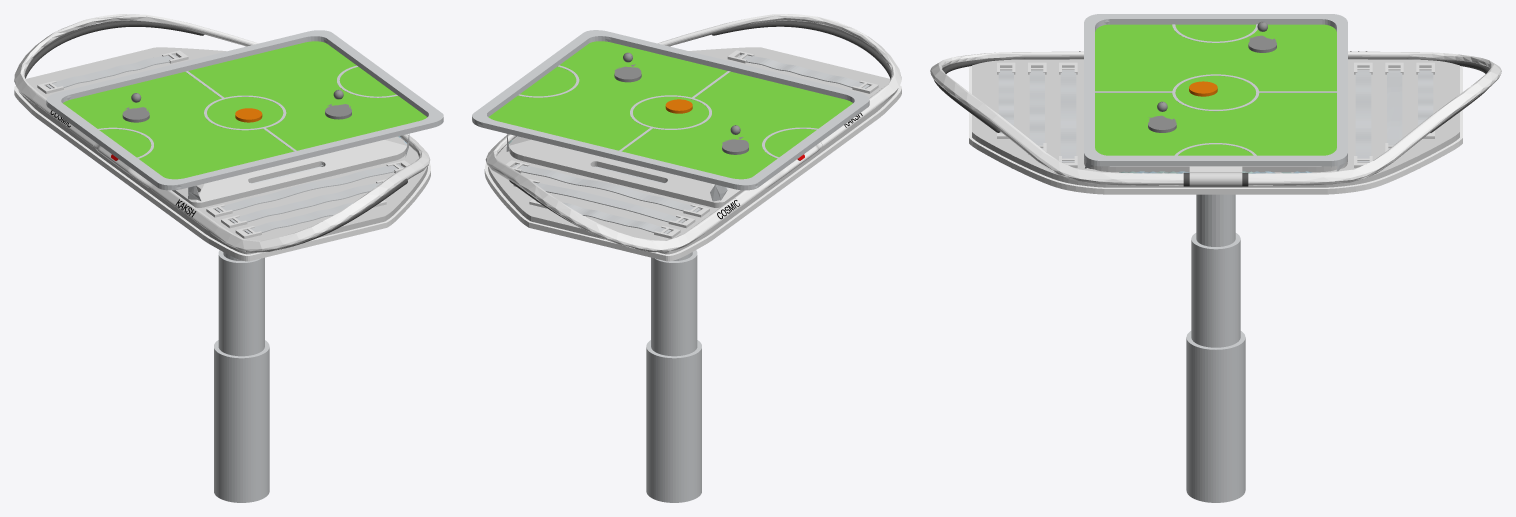
Rendered from cosmic-kaksh.glb.
3 views of the same model, side by side, from view 1: azimuth 30°, elevation 25°; view 2: azimuth 150°, elevation 25°; view 3: azimuth 270°, elevation 25° (orthographic). The views are drawn at different scales.
Parts seen in each view (by area): view 1: material--1, material-12, material-5, material-0, material-6, material-4, material-14; view 2: material--1, material-12, material-5, material-0, material-6, material-4, material-14; view 3: material--1, material-12, material-5, material-0, material-6, material-4, material-14.
Part boxes in pixels (x1,y1,x2,y2): material--1: (46, 30, 443, 502); material-12: (63, 41, 427, 179); material-5: (18, 47, 427, 254); material-0: (14, 14, 430, 252); material-6: (14, 85, 430, 261); material-4: (24, 20, 407, 252); material-14: (122, 89, 351, 122); material--1: (472, 30, 869, 502); material-12: (488, 41, 852, 179); material-5: (488, 47, 897, 254); material-0: (485, 14, 901, 252); material-6: (484, 85, 901, 261); material-4: (509, 20, 891, 230); material-14: (614, 52, 748, 154); material--1: (998, 14, 1433, 502); material-12: (1095, 24, 1336, 155); material-5: (972, 59, 1459, 187); material-0: (930, 51, 1501, 185); material-6: (969, 66, 1462, 194); material-4: (934, 59, 1489, 186); material-14: (1148, 21, 1276, 132).
Size of the model in its own units: 1.12 by 1.51 by 1.84.
